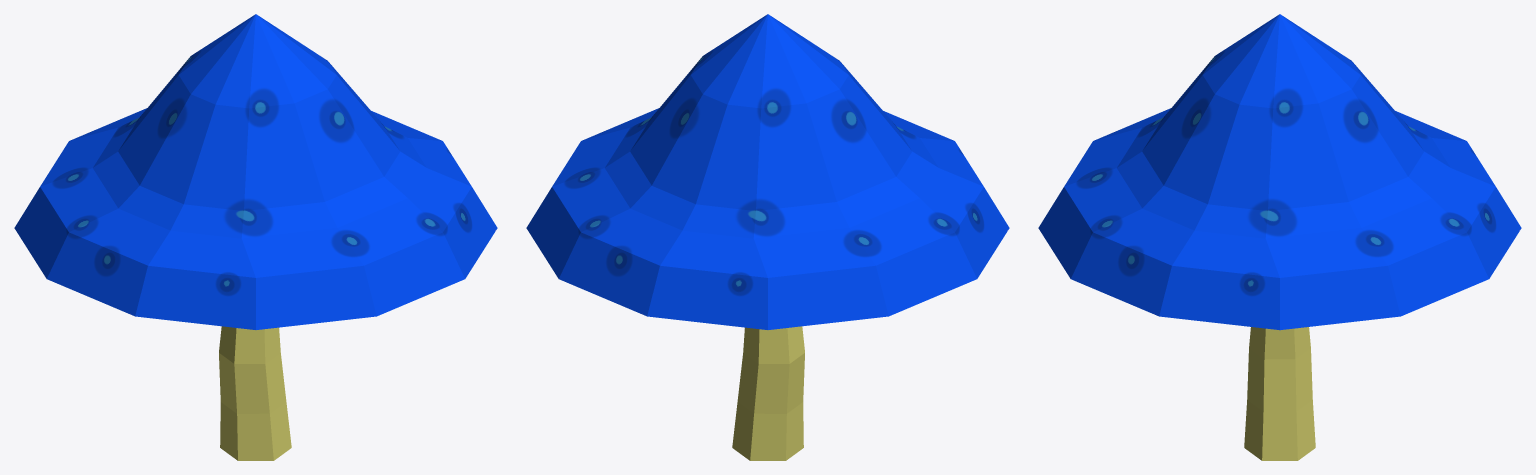
File: Mushroom.glb
3 views of the same model, side by side, from view 1: azimuth 30°, elevation 25°; view 2: azimuth 150°, elevation 25°; view 3: azimuth 270°, elevation 25° (orthographic).
Visible parts, largest first — view 1: Cap, Cap2, Mushroom, Cap3; view 2: Cap2, Cap3, Mushroom, Cap; view 3: Cap3, Cap, Mushroom, Cap2.
Part boxes in pixels (bbox=[...]): Cap: bbox=[135, 14, 497, 329]; Cap2: bbox=[14, 14, 255, 316]; Mushroom: bbox=[219, 326, 291, 460]; Cap3: bbox=[258, 15, 471, 186]; Cap2: bbox=[647, 14, 1009, 329]; Cap3: bbox=[526, 14, 767, 316]; Mushroom: bbox=[732, 326, 804, 460]; Cap: bbox=[770, 15, 983, 186]; Cap3: bbox=[1159, 14, 1521, 330]; Cap: bbox=[1038, 14, 1279, 316]; Mushroom: bbox=[1244, 327, 1315, 460]; Cap2: bbox=[1282, 15, 1495, 186].
Bounding box in the file's own units: 9.06 × 8.97 × 9.06.
2 materials, 1 textured.
